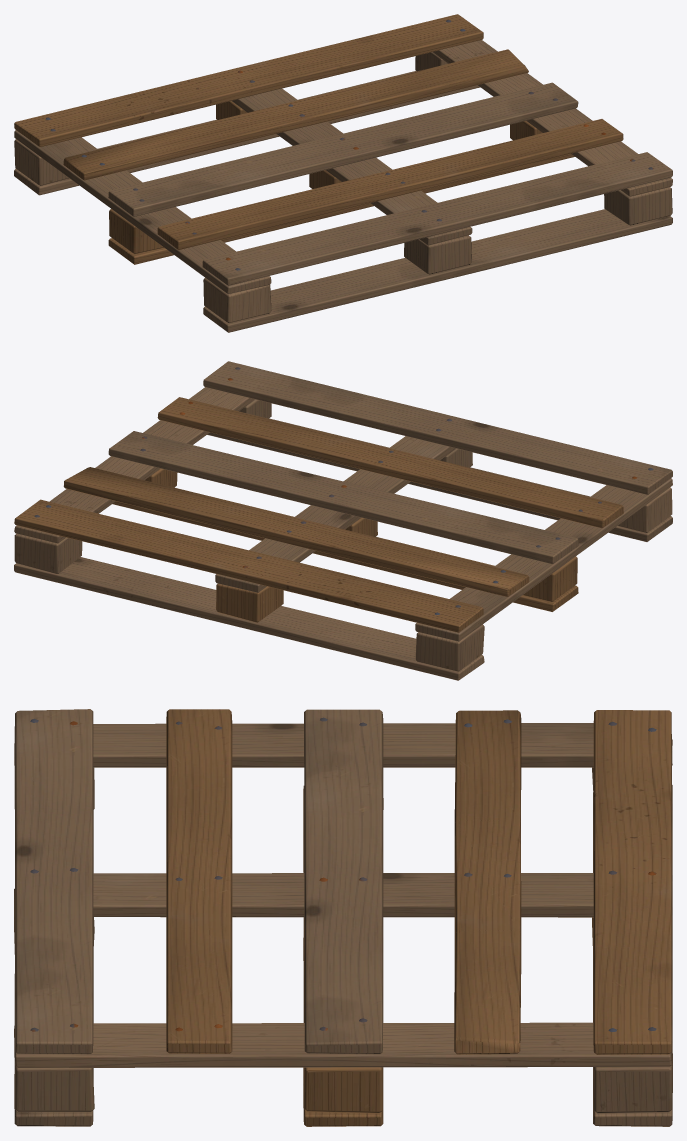
The model's file is Wooden_Pallet.glb.
The picture shows the model from 3 angles, top to bottom: view 1: azimuth 30°, elevation 25°; view 2: azimuth 150°, elevation 25°; view 3: azimuth 270°, elevation 25°; orthographic projection. The views are drawn at different scales.
Visible parts, largest first — view 1: Wooden_Pallet; view 2: Wooden_Pallet; view 3: Wooden_Pallet.
Boxes of the visible parts, x1=… form: Wooden_Pallet: x1=14, y1=14, x2=672, y2=332; Wooden_Pallet: x1=14, y1=361, x2=672, y2=680; Wooden_Pallet: x1=14, y1=709, x2=672, y2=1126.
Bounding box in the file's own units: 1.2 × 0.1498 × 1.
Materials: 2 (2 with a texture image).
